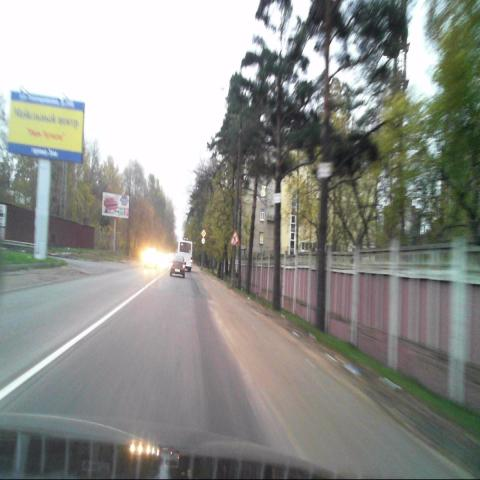1_25: (229, 230, 240, 247)
